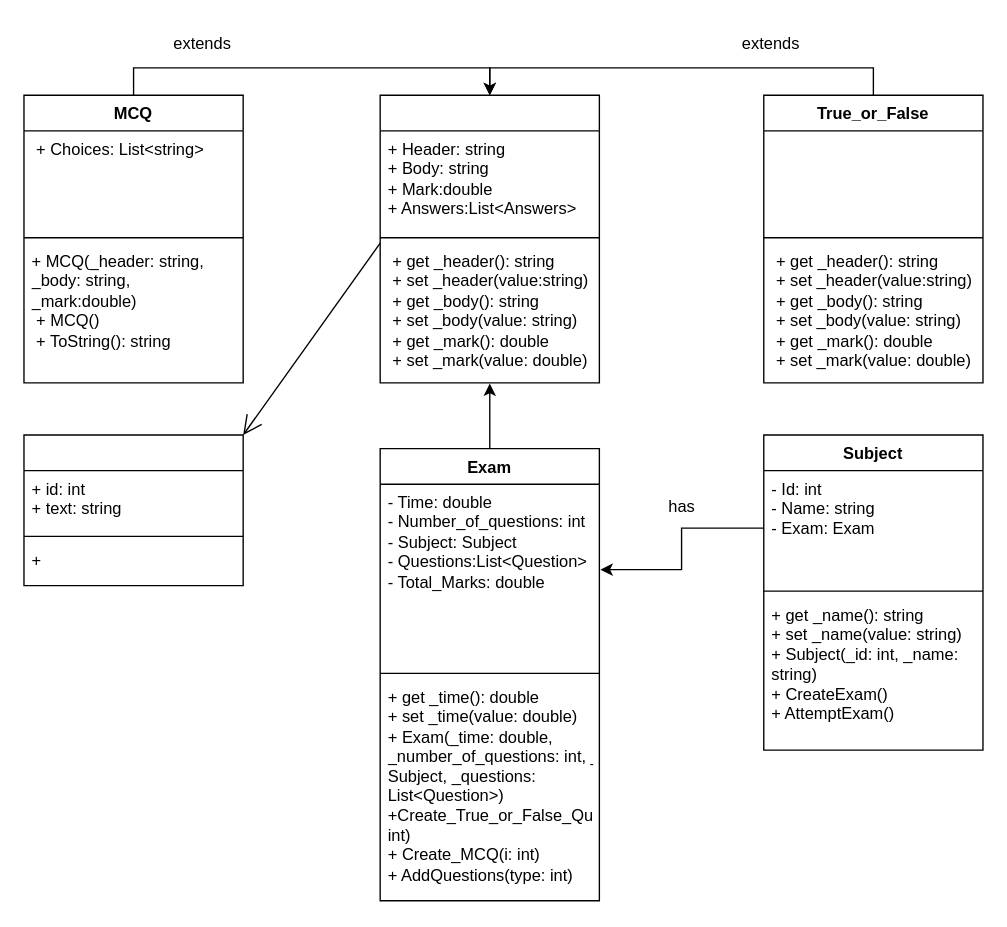
Image size: 1007x927. Some labels were removed from this diagram. Each missing label, with the box of its shape:
Answers: (23, 434, 243, 586)
Questions: (379, 94, 599, 383)
